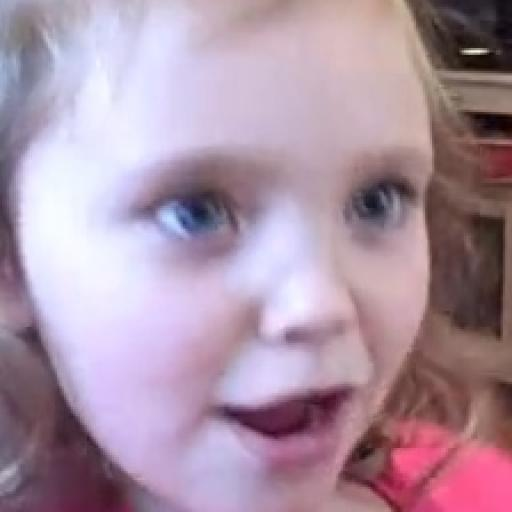Autism: (7, 0, 445, 512)
